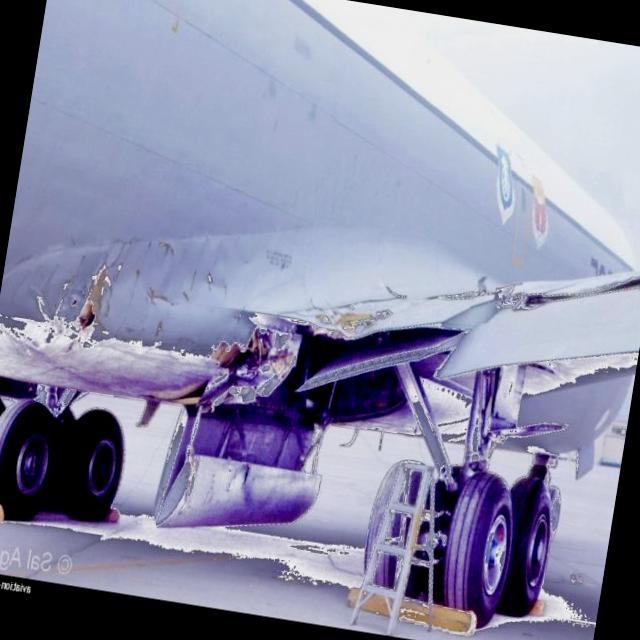crack: (67, 260, 108, 332)
dent: (106, 219, 253, 355)
